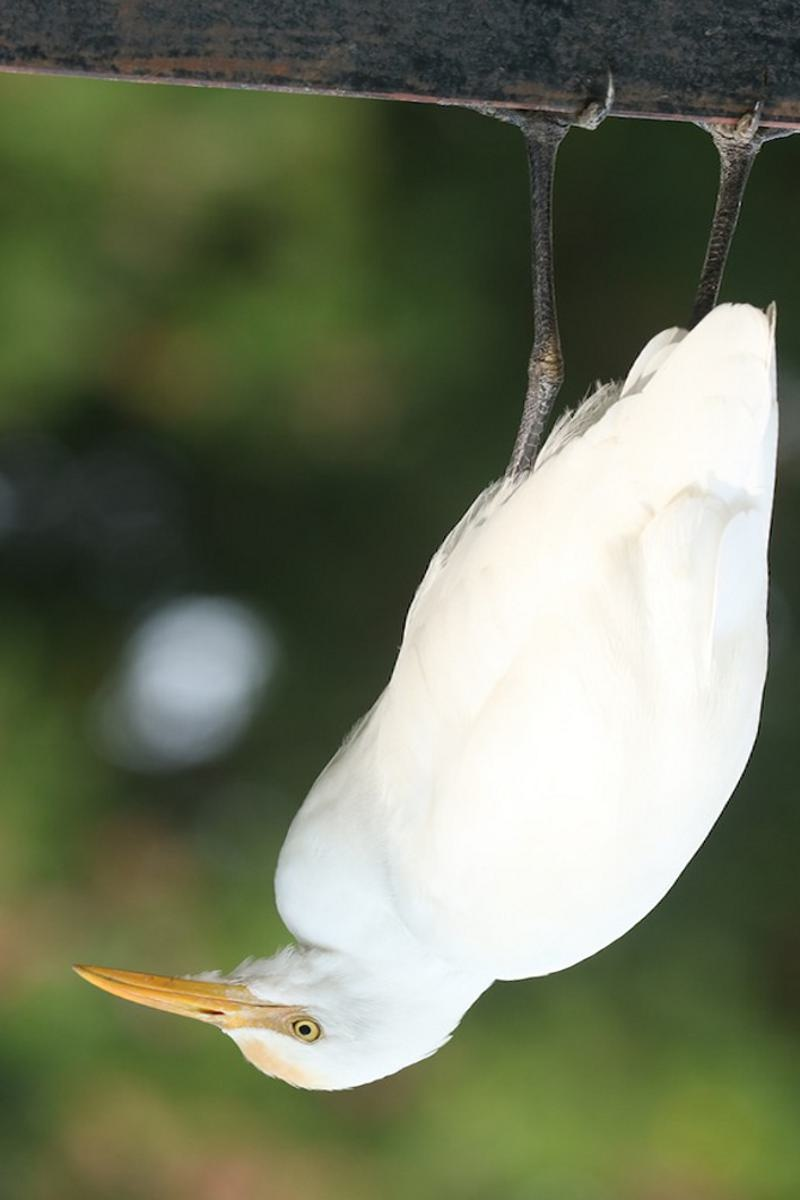egret: (88, 150, 800, 1099)
